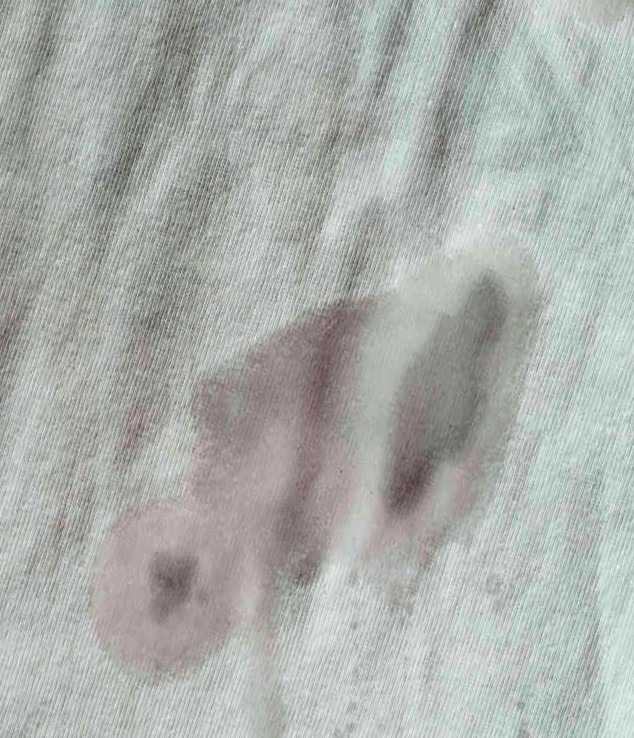stain: (86, 215, 557, 697)
